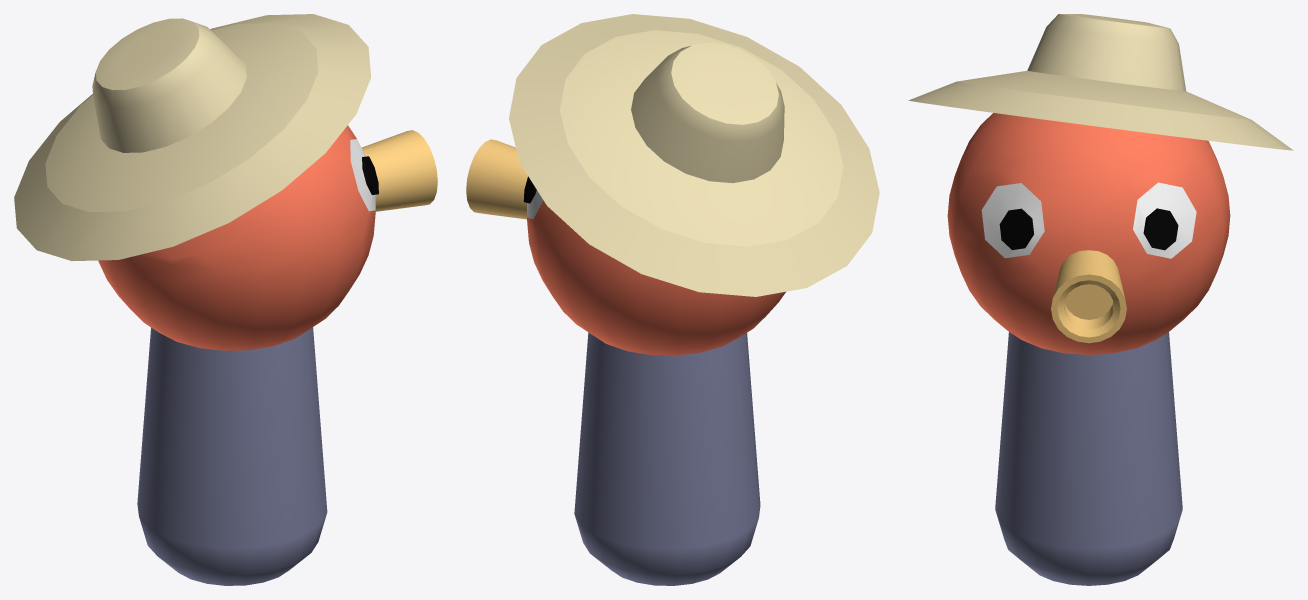
The model's file is FarmerTest.fbx.
3 views of the same model, side by side, from view 1: azimuth 30°, elevation 25°; view 2: azimuth 150°, elevation 25°; view 3: azimuth 270°, elevation 25° (orthographic). The views are drawn at different scales.
Visible parts, largest first — view 1: pCylinder2, pCylinder1, pSphere1, pCylinder3, pCylinder4; view 2: pCylinder2, pCylinder1, pSphere1, pCylinder3, pCylinder4; view 3: pSphere1, pCylinder1, pCylinder2, pCylinder3, pCylinder4.
Boxes of the visible parts, bbox=[...] form: pCylinder2: bbox=[14, 14, 371, 261]; pCylinder1: bbox=[137, 327, 327, 585]; pSphere1: bbox=[98, 125, 378, 350]; pCylinder3: bbox=[92, 18, 246, 152]; pCylinder4: bbox=[362, 130, 437, 211]; pCylinder2: bbox=[509, 14, 879, 296]; pCylinder1: bbox=[574, 332, 760, 585]; pSphere1: bbox=[523, 176, 785, 355]; pCylinder3: bbox=[631, 42, 784, 183]; pCylinder4: bbox=[466, 139, 527, 219]; pSphere1: bbox=[947, 113, 1230, 354]; pCylinder1: bbox=[995, 332, 1182, 585]; pCylinder2: bbox=[908, 70, 1293, 150]; pCylinder3: bbox=[1027, 14, 1186, 91]; pCylinder4: bbox=[1051, 250, 1126, 343].
Size of the model in its own units: 3.62 by 5.01 by 3.28.
